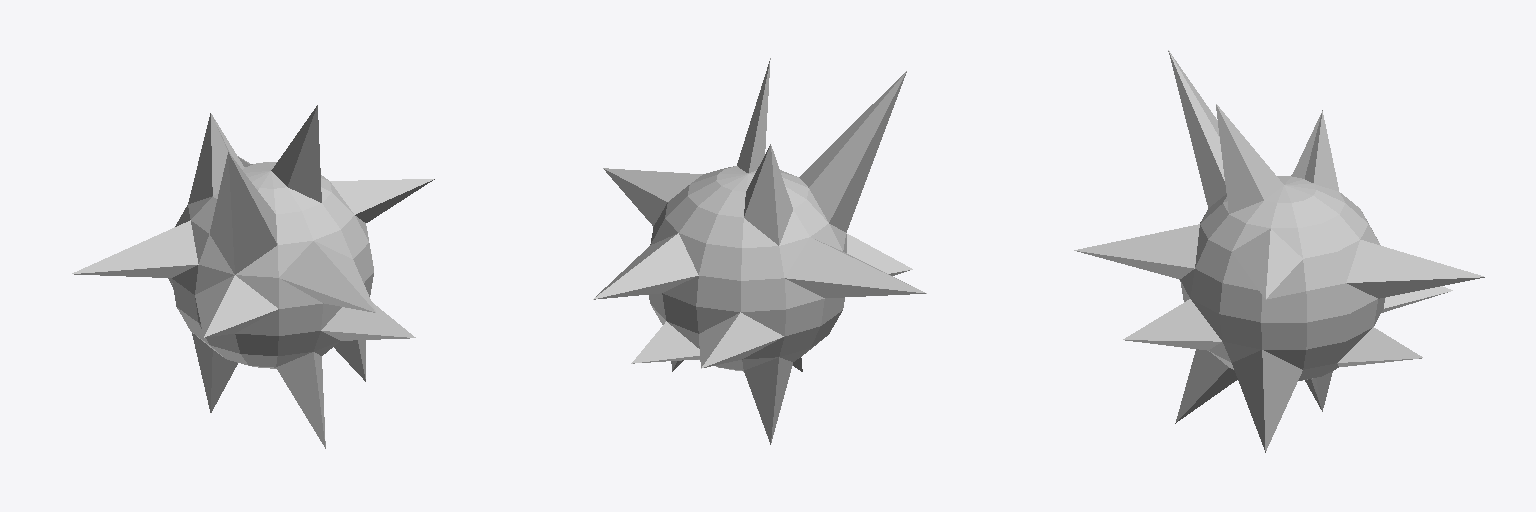
File: shubspike.obj
3 views of the same model, side by side, from view 1: azimuth 30°, elevation 25°; view 2: azimuth 150°, elevation 25°; view 3: azimuth 270°, elevation 25° (orthographic).
Parts seen in each view (by area): view 1: 구체; view 2: 구체; view 3: 구체.
Part boxes in pixels (bbox=[...]): 구체: bbox=[72, 105, 434, 448]; 구체: bbox=[593, 58, 926, 444]; 구체: bbox=[1074, 50, 1484, 452].
Bounding box in the file's own units: 3.82 × 3.55 × 3.96.